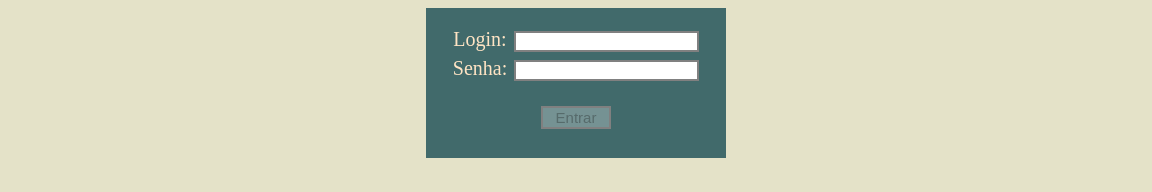
Test: se o e-mail do usuário aparece na tela
Type "daniela@daniela.com" into the field with test id "email-input" at (606, 42), box [514, 31, 699, 52]
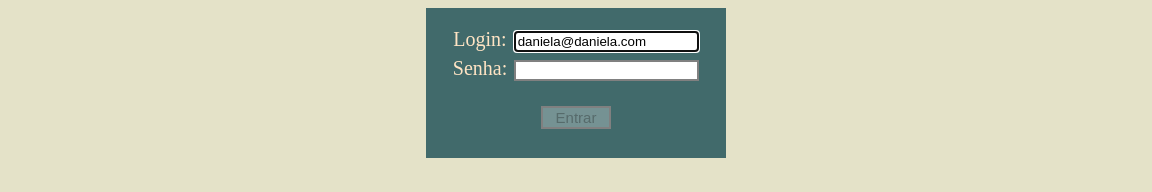
Type "271107" into the field with test id "password-input" at (607, 70), box [514, 60, 699, 81]
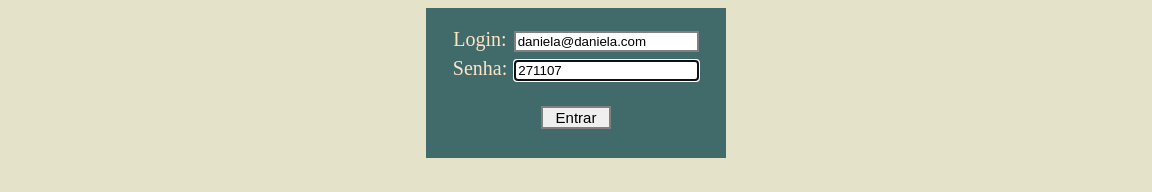
Click the button "Entrar" at (576, 118), box [541, 106, 611, 129]
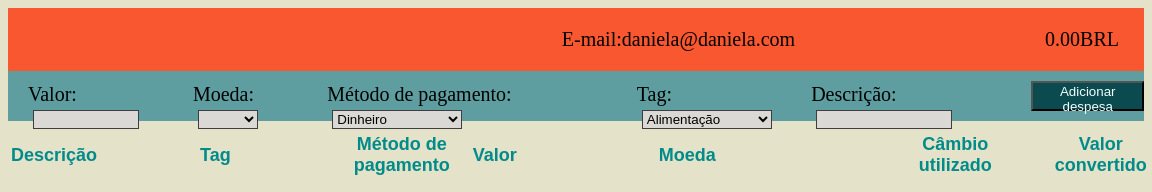
Expected: the text "E-mail:daniela@daniela.com" is shown, [562, 28, 795, 51]
